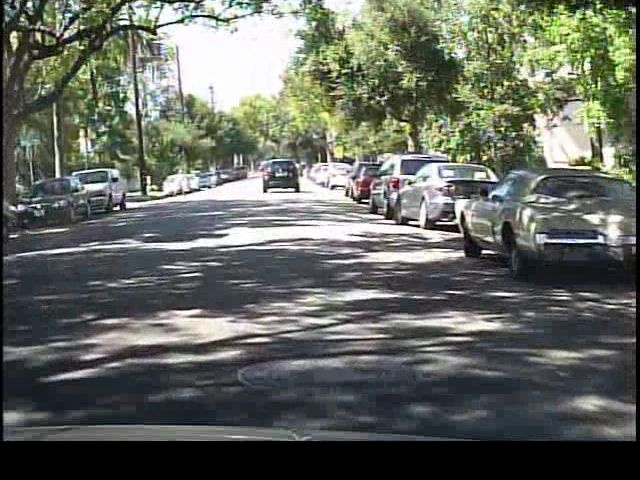person: (172, 167, 189, 200)
